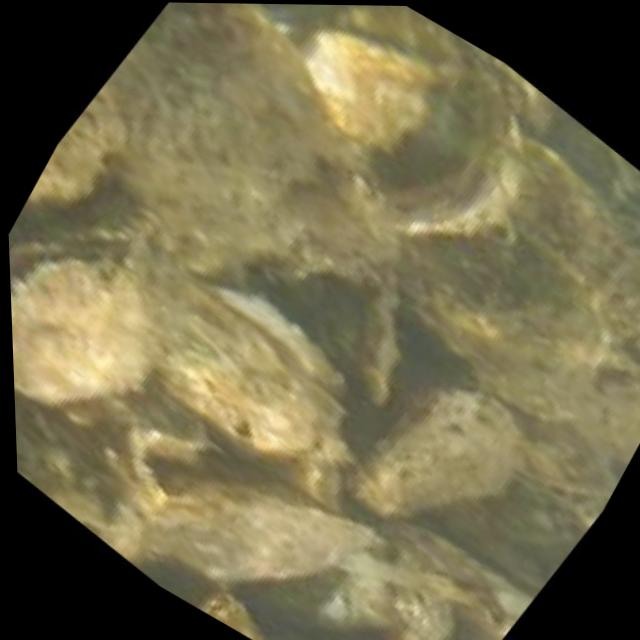Oyster-Closed: (137, 477, 374, 584), (373, 69, 517, 234), (338, 525, 515, 613)
Oyster-Indeterminate: (19, 2, 370, 260), (395, 218, 609, 420), (141, 278, 347, 459), (15, 380, 207, 556), (506, 142, 640, 372), (349, 377, 522, 515), (311, 34, 469, 162), (262, 261, 396, 401), (427, 481, 599, 587), (500, 399, 615, 507), (311, 573, 455, 640), (259, 613, 413, 640), (189, 587, 263, 640), (281, 455, 339, 510)
Oyster-Open: (9, 241, 169, 401)
